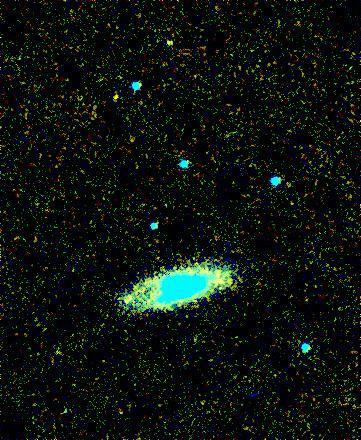star: (108, 81, 138, 111)
